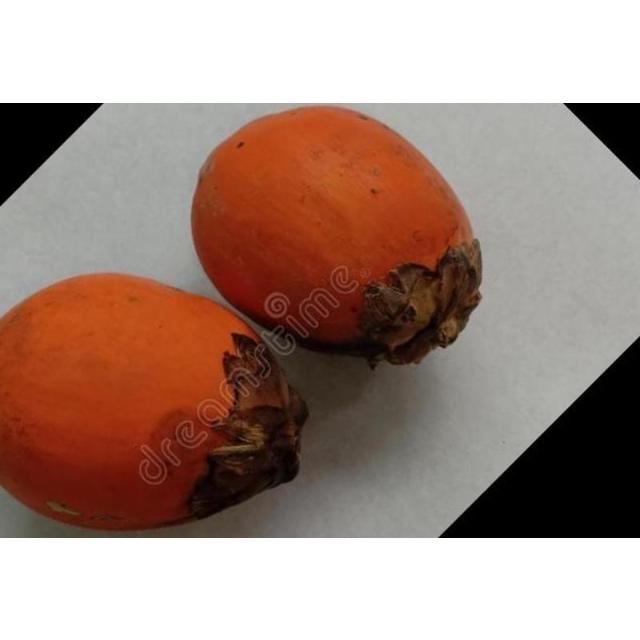good: (0, 272, 309, 532), (189, 105, 484, 366)
